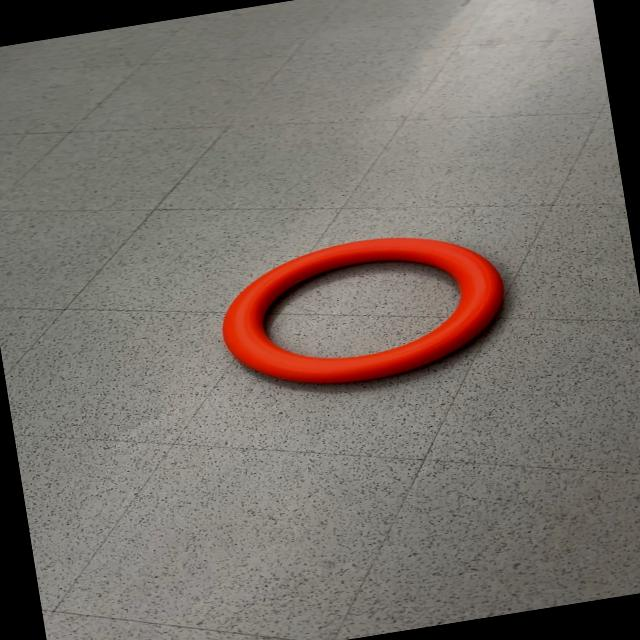note: (209, 218, 516, 403)
